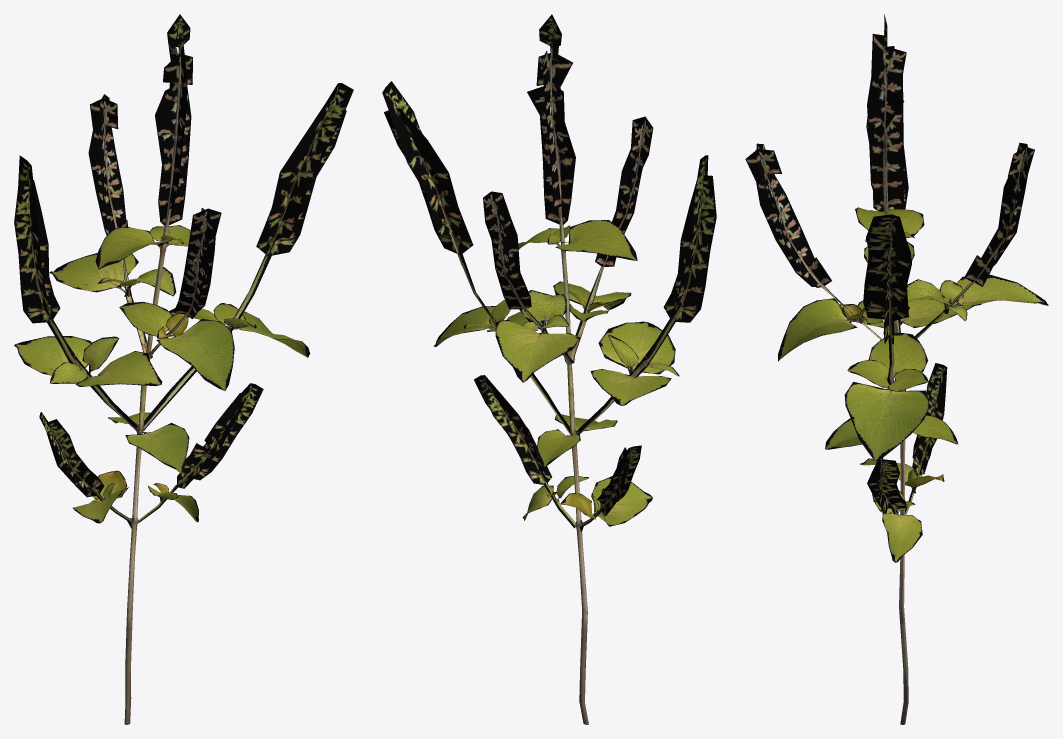
The model's file is shrub_03.glb.
3 views of the same model, side by side, from view 1: azimuth 30°, elevation 25°; view 2: azimuth 150°, elevation 25°; view 3: azimuth 270°, elevation 25° (orthographic). The views are drawn at different scales.
Parts seen in each view (by area): view 1: LOD0; view 2: LOD0; view 3: LOD0.
Boxes of the visible parts, bbox=[...] form: LOD0: bbox=[14, 14, 353, 724]; LOD0: bbox=[382, 14, 716, 724]; LOD0: bbox=[745, 14, 1048, 724].
Size of what is drawn, in the model's own units: 0.5016 by 1.01 by 0.378.
1 material, 1 textured.
